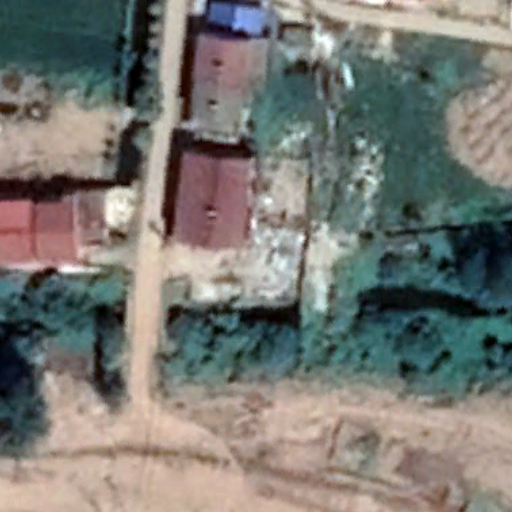msw: (251, 207, 301, 307)
